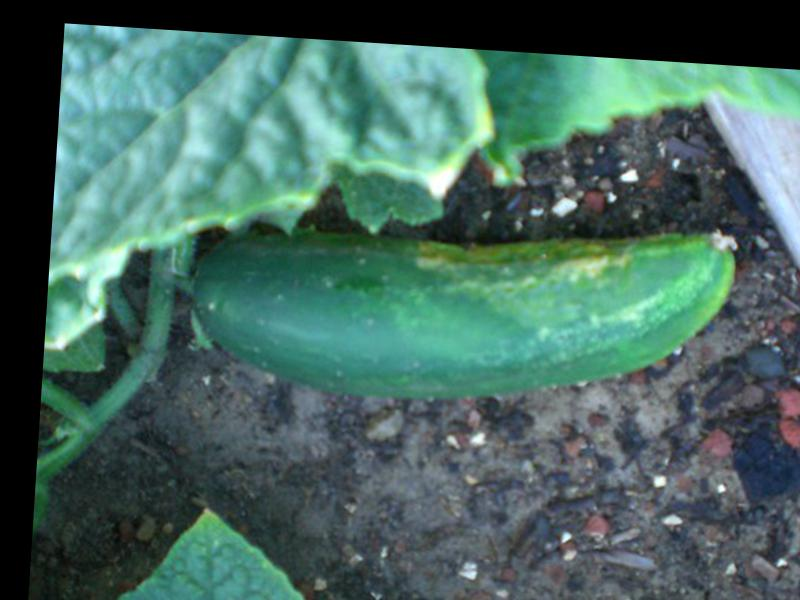Cucumber: (188, 198, 738, 417)
